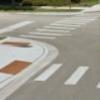crosswalks: (14, 14, 99, 42)
